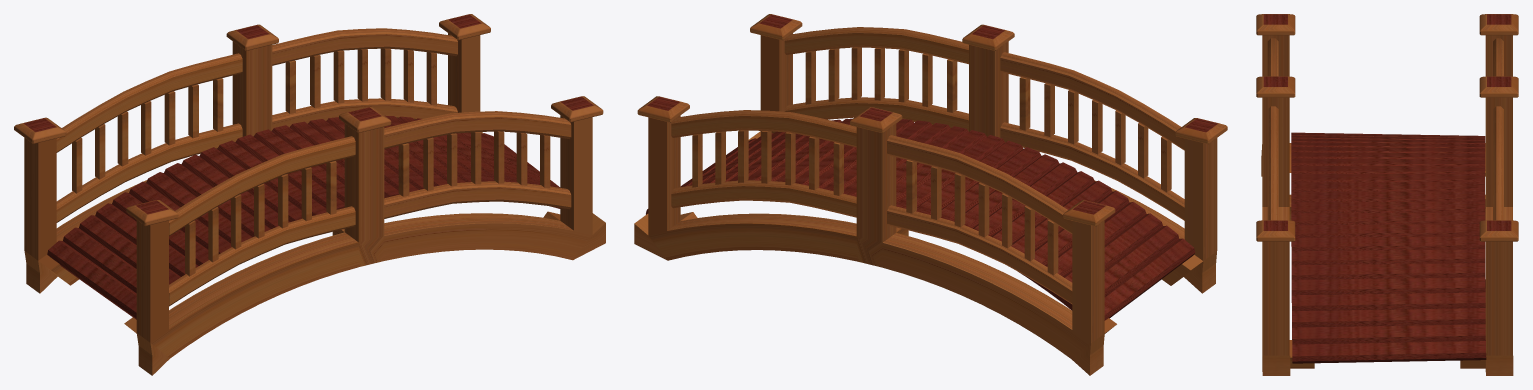
The model's file is Bridge.fbx.
3 views of the same model, side by side, from view 1: azimuth 30°, elevation 25°; view 2: azimuth 150°, elevation 25°; view 3: azimuth 270°, elevation 25° (orthographic).
Parts seen in each view (by area): view 1: polySurface90, polySurface27; view 2: polySurface90, polySurface27; view 3: polySurface27, polySurface90.
Part boxes in pixels (x1=…): polySurface90: x1=14, y1=14, x2=605, y2=375; polySurface27: x1=47, y1=115, x2=560, y2=319; polySurface90: x1=634, y1=14, x2=1227, y2=375; polySurface27: x1=646, y1=118, x2=1195, y2=320; polySurface27: x1=1291, y1=132, x2=1486, y2=363; polySurface90: x1=1256, y1=14, x2=1518, y2=375.
Bounding box in the file's own units: 4.8 × 1.99 × 2.35.
2 materials, 2 textured.
